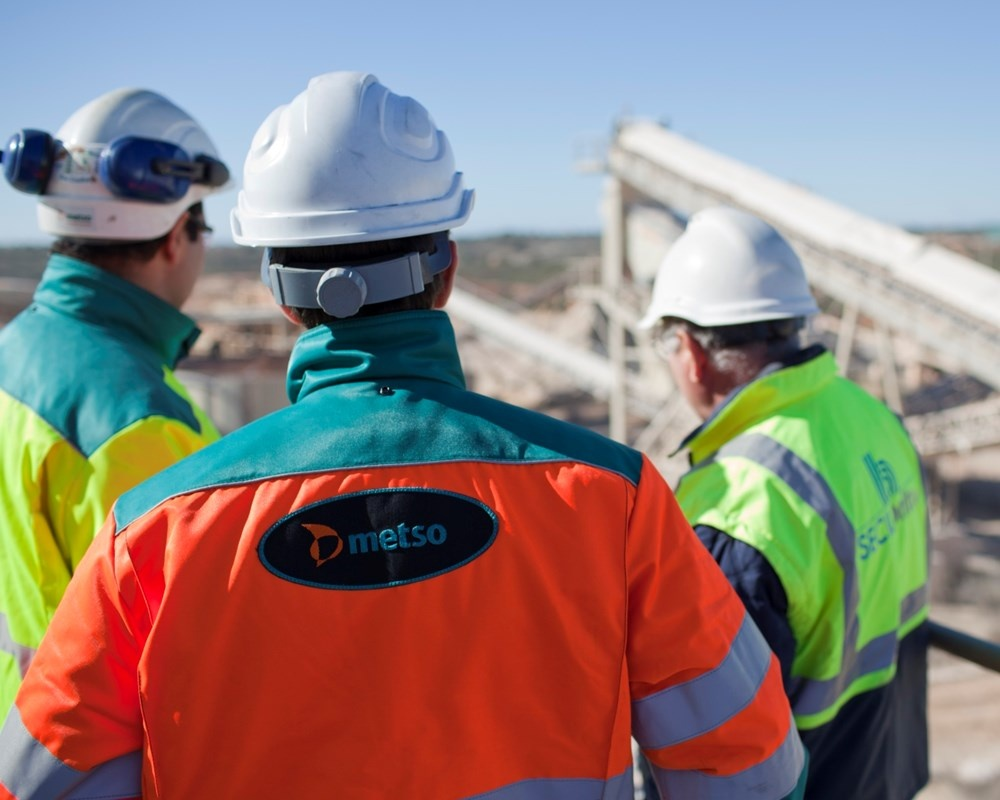white: (238, 73, 466, 323), (31, 85, 216, 301), (637, 204, 822, 409)
